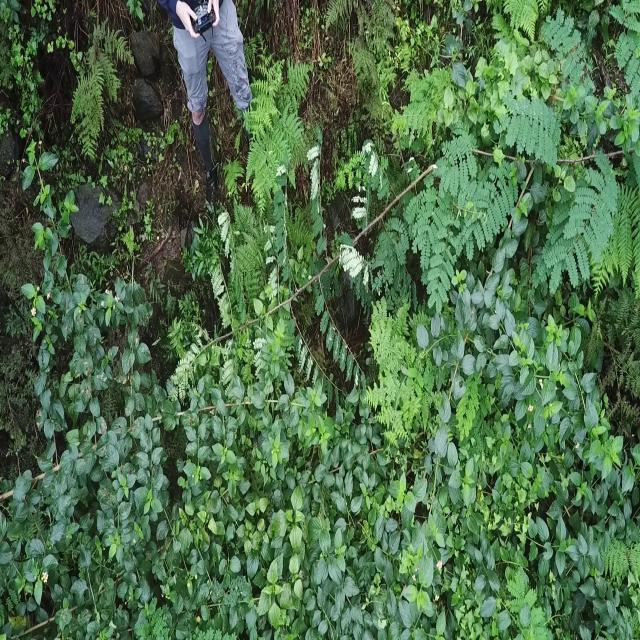Mysore-Thorn-Weed: (154, 128, 454, 431), (448, 0, 636, 289)
